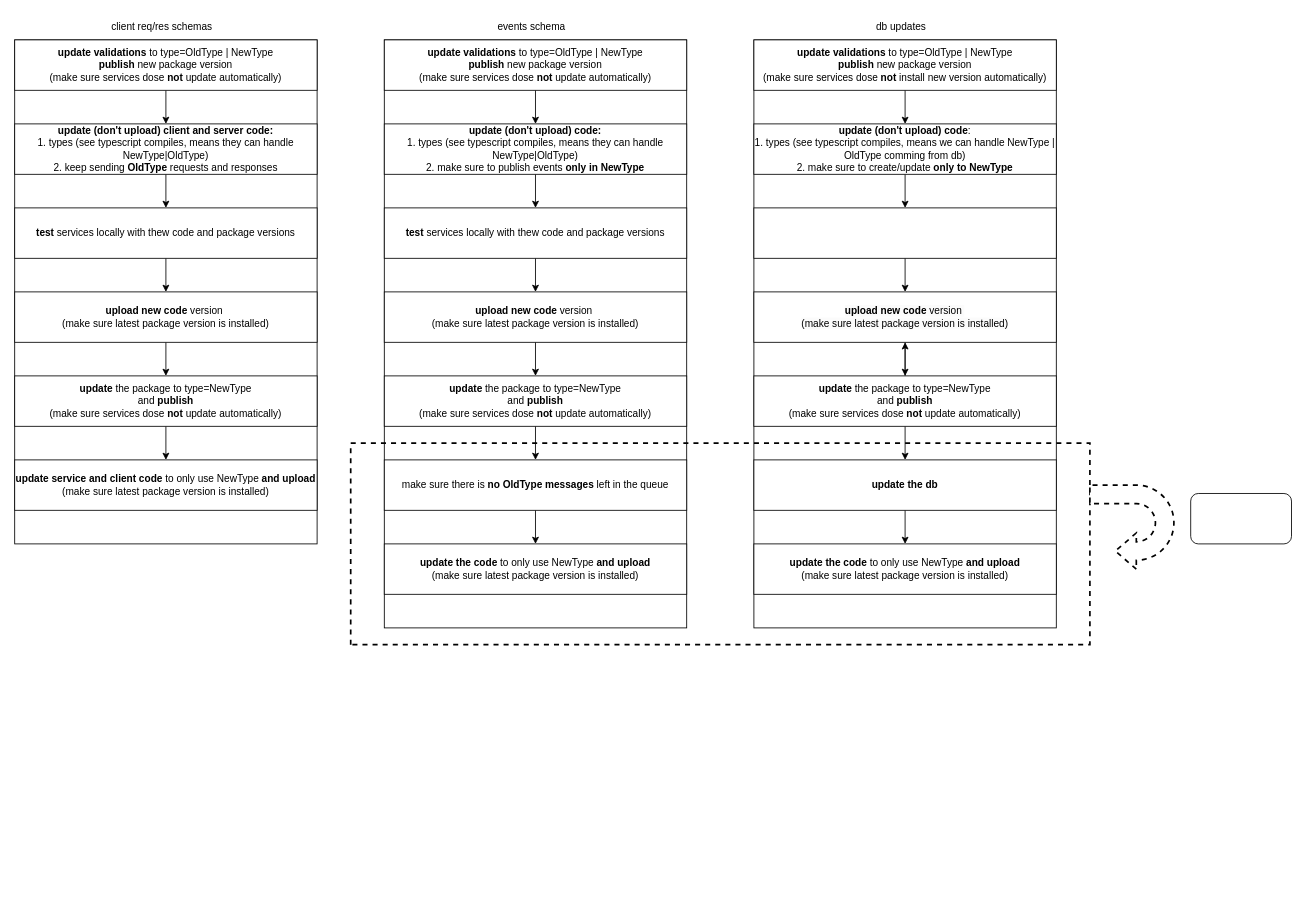
The diagram is 1306 pixels wide and 902 high, and some of its shapes have lost their labels. The shapes that lost their labels are listed below. From the top down, each one's centre as x and y in pixels, then its label:
At (x=904, y=232): "test service locally with thew code and package versions".
At (x=1241, y=518): "do this part first on staging, test, then do on prod".
